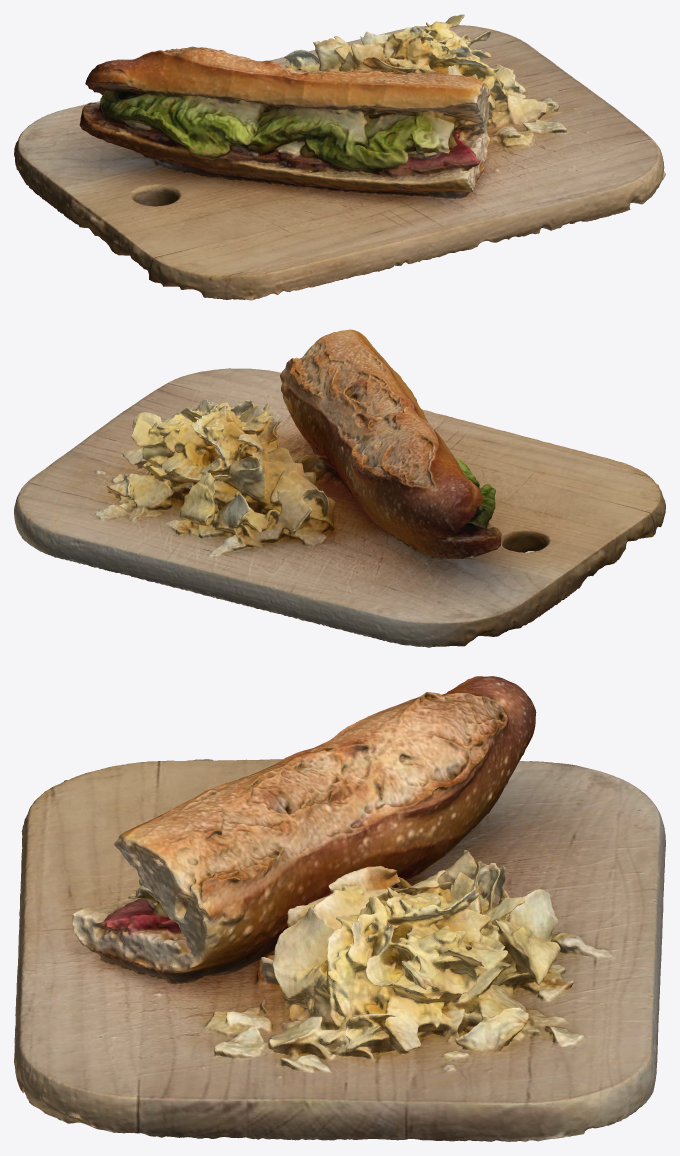
The model's file is sanduiche-caseiro-mobile.glb.
The picture shows the model from 3 angles, top to bottom: view 1: azimuth 30°, elevation 25°; view 2: azimuth 150°, elevation 25°; view 3: azimuth 270°, elevation 25°; orthographic projection. The views are drawn at different scales.
Visible parts, largest first — view 1: model_tex_u1_v1_1, model_tex_u1_v1_0, model_tex_u1_v1_0_2; view 2: model_tex_u1_v1_0, model_tex_u1_v1_1, model_tex_u1_v1_0_2; view 3: model_tex_u1_v1_0, model_tex_u1_v1_1, model_tex_u1_v1_0_2.
Part boxes in pixels (x1,y1,x2,y2): model_tex_u1_v1_1: (14, 15, 660, 299); model_tex_u1_v1_0: (14, 25, 665, 255); model_tex_u1_v1_0_2: (46, 14, 658, 300); model_tex_u1_v1_0: (14, 329, 612, 631); model_tex_u1_v1_1: (14, 330, 665, 647); model_tex_u1_v1_0_2: (14, 341, 652, 624); model_tex_u1_v1_0: (19, 676, 659, 1141); model_tex_u1_v1_1: (14, 691, 665, 1140); model_tex_u1_v1_0_2: (14, 682, 663, 1140).
Bounding box in the file's own units: 0.1616 × 0.0401 × 0.1247.
Materials: 1 (1 with a texture image).
